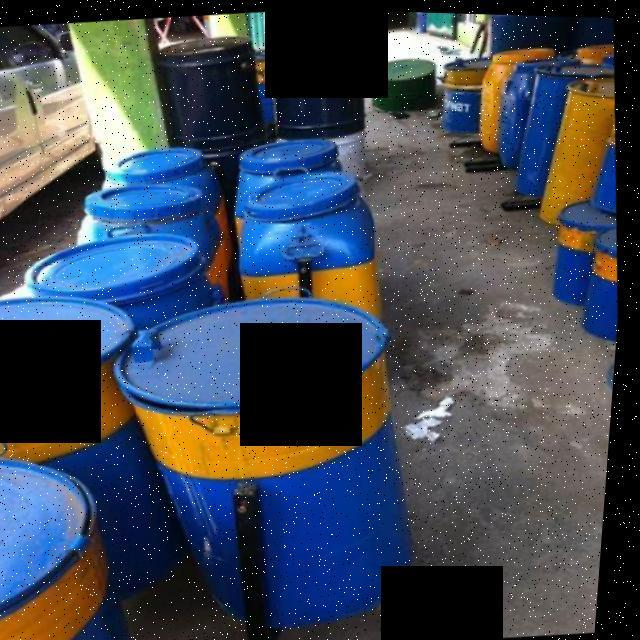bin: (109, 272, 438, 640), (0, 264, 170, 463), (219, 152, 401, 319), (0, 443, 142, 640), (40, 192, 216, 339), (69, 103, 216, 213), (232, 109, 341, 236)
